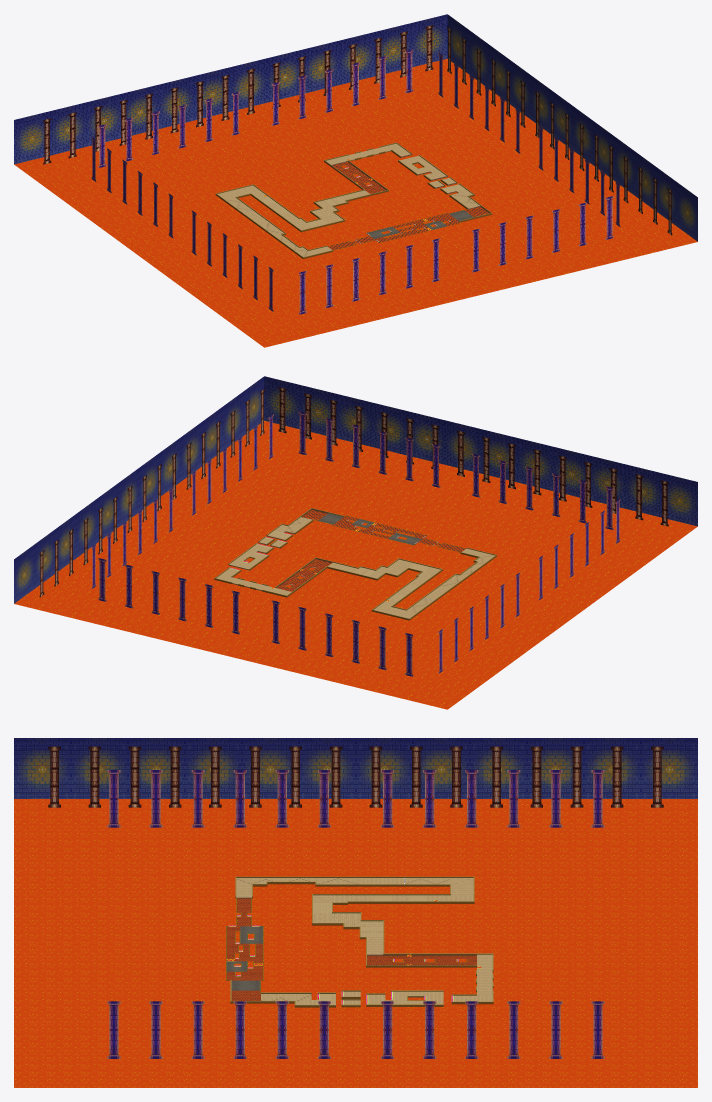
The model's file is old_koopa_agb-old_koopa_agb.glb.
The picture shows the model from 3 angles, top to bottom: view 1: azimuth 30°, elevation 25°; view 2: azimuth 150°, elevation 25°; view 3: azimuth 270°, elevation 25°; orthographic projection. The views are drawn at different scales.
Parts seen in each view (by area): view 1: old_koopa_agb; view 2: old_koopa_agb; view 3: old_koopa_agb.
Part boxes in pixels (bbox=[...]): old_koopa_agb: bbox=[14, 14, 697, 347]; old_koopa_agb: bbox=[14, 376, 697, 709]; old_koopa_agb: bbox=[14, 738, 697, 1087].
Size of the model in its own units: 625 by 61.31 by 625.
Materials: 13 (13 with a texture image).
